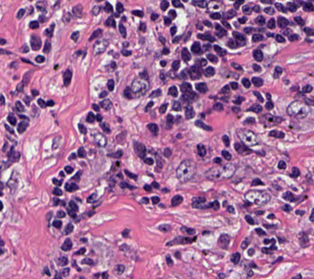nucleus: (176, 160, 195, 181), (245, 190, 269, 205), (237, 129, 258, 145), (131, 81, 146, 95), (221, 163, 235, 177), (234, 143, 250, 154), (205, 168, 221, 179), (195, 120, 211, 130), (94, 133, 106, 146), (218, 234, 229, 248), (182, 91, 197, 101), (189, 66, 200, 79), (192, 196, 205, 207), (135, 143, 145, 157), (31, 35, 40, 50), (8, 172, 17, 187), (89, 29, 101, 40), (233, 32, 245, 43), (9, 148, 19, 161), (198, 33, 214, 41), (63, 69, 71, 85), (171, 195, 182, 206), (214, 45, 226, 55), (181, 48, 190, 61), (185, 105, 194, 118), (100, 99, 111, 109), (17, 121, 27, 132), (147, 123, 157, 134), (61, 239, 71, 250), (253, 49, 262, 61), (124, 170, 136, 179), (269, 130, 284, 137), (248, 104, 261, 112), (181, 82, 191, 92), (100, 122, 110, 132), (191, 42, 200, 53), (273, 66, 282, 77), (195, 83, 206, 92), (197, 144, 205, 156), (207, 201, 219, 209), (166, 114, 173, 127), (181, 227, 194, 234), (204, 67, 214, 76), (252, 77, 262, 86), (168, 86, 177, 96), (15, 101, 24, 111), (227, 39, 238, 47), (123, 87, 131, 98), (43, 40, 50, 52), (251, 178, 263, 185), (65, 184, 77, 191), (81, 257, 93, 264), (87, 193, 96, 202), (245, 215, 254, 224), (58, 256, 67, 265), (207, 54, 217, 62), (231, 62, 241, 70), (150, 89, 160, 97), (254, 91, 262, 101), (233, 96, 243, 104), (87, 112, 95, 122), (7, 114, 15, 124), (77, 147, 85, 157), (222, 150, 230, 160), (72, 171, 80, 181), (69, 201, 77, 211), (65, 223, 73, 233), (231, 253, 239, 263), (111, 150, 122, 157), (159, 224, 170, 231), (242, 78, 250, 87), (220, 85, 229, 93), (37, 99, 46, 107), (172, 101, 180, 110), (269, 117, 281, 123), (78, 124, 86, 133), (163, 148, 171, 157), (121, 182, 133, 188), (67, 208, 75, 217), (116, 264, 124, 273), (252, 34, 262, 41), (172, 60, 179, 70), (159, 103, 166, 113), (222, 135, 229, 145), (255, 228, 265, 235), (107, 79, 113, 90), (53, 137, 59, 148), (53, 220, 61, 228), (275, 35, 284, 42), (35, 55, 44, 62), (265, 100, 272, 109), (145, 101, 152, 110), (213, 103, 222, 110), (52, 178, 61, 185), (75, 248, 85, 254), (166, 255, 172, 265), (71, 32, 78, 40), (122, 48, 130, 55), (252, 64, 260, 71), (140, 71, 147, 79), (278, 161, 285, 169), (64, 166, 72, 173), (53, 188, 61, 195), (151, 196, 159, 203), (144, 158, 153, 164), (156, 159, 162, 168), (241, 239, 247, 248), (244, 118, 254, 123), (230, 82, 237, 89), (5, 125, 12, 132), (57, 210, 64, 217), (62, 268, 69, 275), (213, 157, 221, 163), (0, 94, 4, 105), (173, 36, 180, 42), (22, 45, 28, 52), (99, 91, 106, 97), (144, 185, 151, 191), (141, 197, 148, 203), (227, 206, 234, 212), (122, 229, 128, 236), (180, 70, 185, 78), (17, 83, 22, 91), (24, 96, 29, 104), (19, 115, 27, 120), (263, 239, 273, 243), (44, 267, 49, 275), (32, 89, 38, 95), (47, 100, 53, 106), (92, 104, 98, 110), (69, 153, 75, 159), (152, 182, 158, 188), (159, 36, 164, 43), (201, 59, 206, 66), (96, 114, 101, 121), (248, 248, 253, 255), (203, 45, 209, 50), (162, 48, 168, 53), (160, 60, 165, 66), (102, 272, 107, 278), (232, 107, 239, 111), (22, 59, 30, 62), (266, 93, 270, 99), (268, 214, 274, 218), (1, 39, 5, 44), (111, 62, 115, 67), (59, 171, 63, 176), (54, 199, 58, 204), (55, 273, 60, 277), (0, 240, 3, 246), (160, 74, 164, 78), (81, 238, 86, 241), (0, 202, 2, 209)
